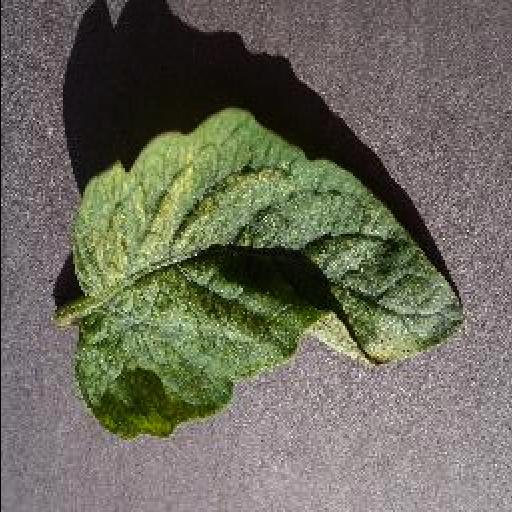disease_tomato: (70, 106, 458, 440)
